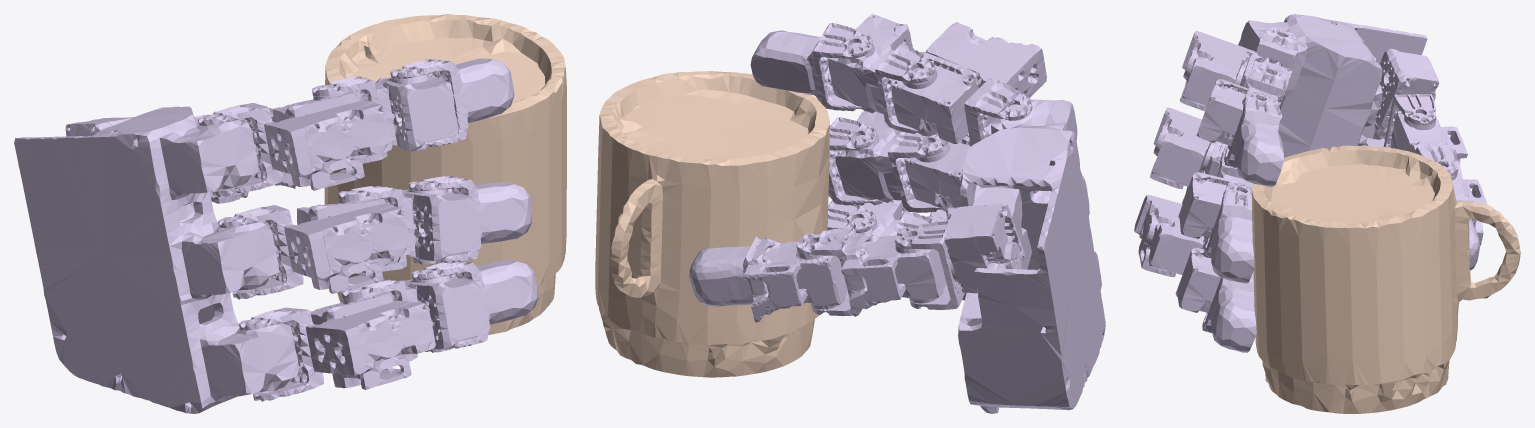
Rendered from 6f4bc7cf52bd55-closed.glb.
The picture shows the model from 3 angles, left to right: view 1: azimuth 30°, elevation 25°; view 2: azimuth 150°, elevation 25°; view 3: azimuth 270°, elevation 25°; orthographic projection. The views are drawn at different scales.
Visible parts, largest first — view 1: LEAP_hand, world; view 2: LEAP_hand, world; view 3: world, LEAP_hand.
Part boxes in pixels (<box>): LEAP_hand: <box>14,58,538,413</box>; world: <box>324,14,566,334</box>; LEAP_hand: <box>689,14,1105,413</box>; world: <box>595,71,829,377</box>; world: <box>1252,145,1520,413</box>; LEAP_hand: <box>1134,14,1487,352</box>.
Size of the model in its own units: 0.2451 by 0.1458 by 0.198.
